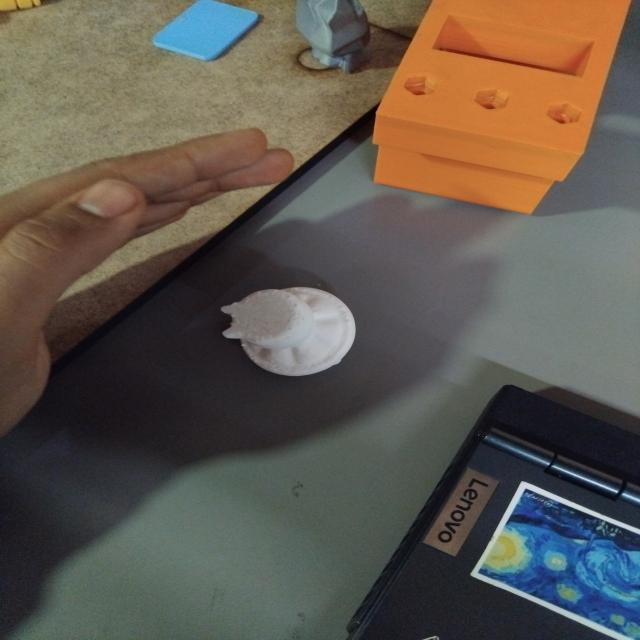Hongo: (210, 275, 368, 385)
